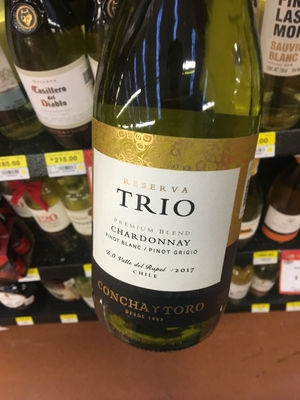trio chardonnay: (76, 12, 260, 356)
